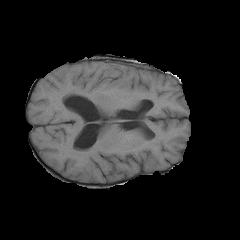glioma: (86, 61, 141, 94)
